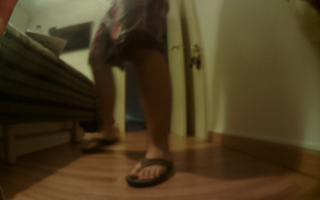person: (80, 1, 178, 188)
